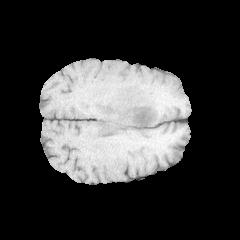glioma: (100, 84, 174, 137)
